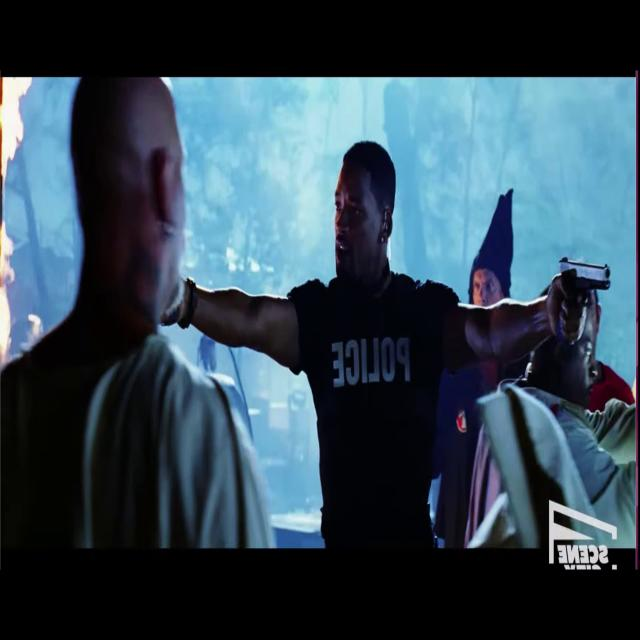weapons: (550, 232, 618, 338)
